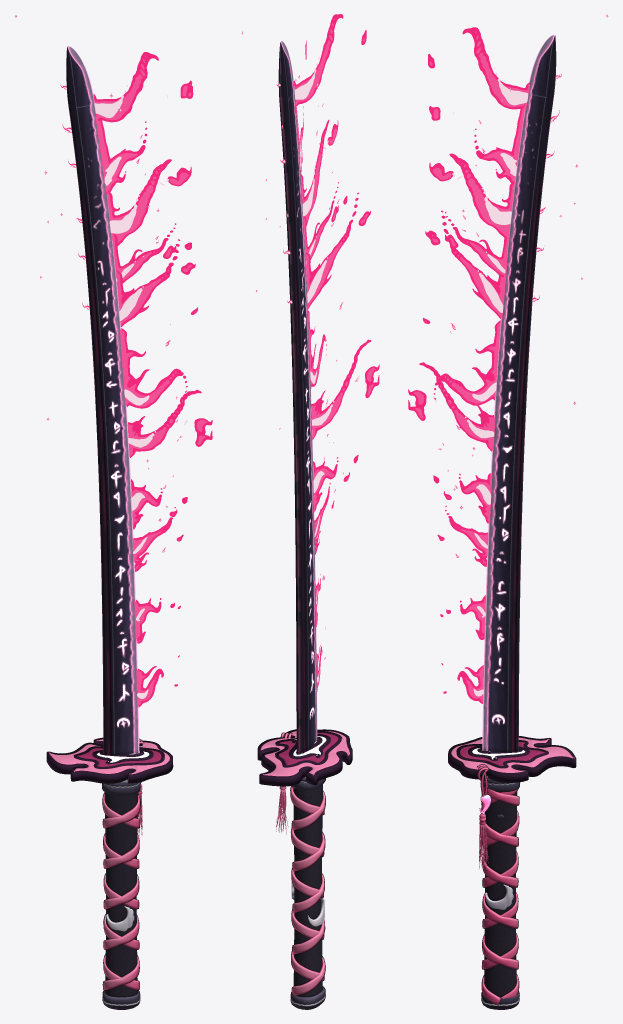
The model's file is mystic_katana.glb.
3 views of the same model, side by side, from view 1: azimuth 90°, elevation 25°; view 2: azimuth 150°, elevation 25°; view 3: azimuth 270°, elevation 25° (orthographic). The views are drawn at different scales.
Parts seen in each view (by area): view 1: Katana_Blade, FX_SpiritFlame_F0, Katana_Hilt, Katana_InkOutline; view 2: Katana_Blade, Katana_Hilt, FX_SpiritFlame_F0, Katana_InkOutline; view 3: Katana_Blade, FX_SpiritFlame_F0, Katana_Hilt, Katana_InkOutline.
Boxes of the visible parts, x1,y1,x2,y2 form: Katana_Blade: (66, 46, 139, 755); FX_SpiritFlame_F0: (15, 15, 212, 707); Katana_Hilt: (47, 738, 172, 1009); Katana_InkOutline: (46, 737, 173, 1009); Katana_Blade: (278, 41, 317, 753); Katana_Hilt: (258, 729, 352, 1009); FX_SpiritFlame_F0: (241, 14, 379, 691); Katana_InkOutline: (257, 729, 352, 1009); Katana_Blade: (482, 34, 556, 752); FX_SpiritFlame_F0: (408, 14, 608, 703); Katana_Hilt: (448, 736, 575, 1009); Katana_InkOutline: (448, 736, 576, 1009).
Size of what is drawn, in the model's own units: 0.0855 by 1.04 by 0.1886.
Materials: 6 (2 with a texture image).
